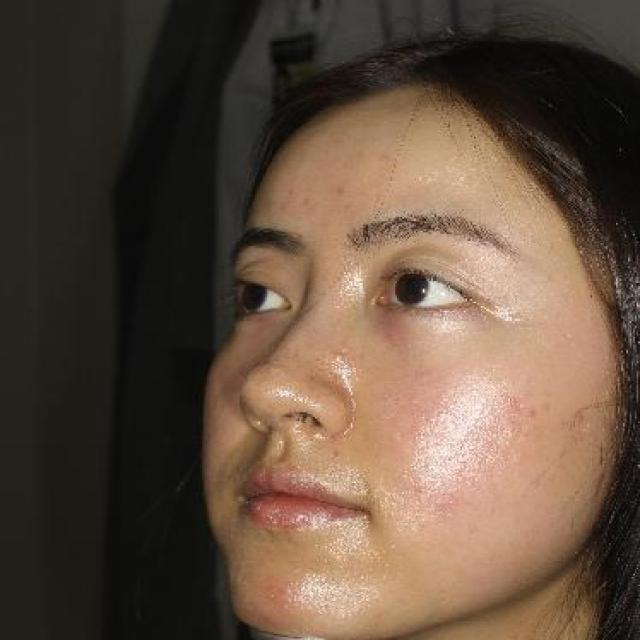dark spot: (426, 495, 466, 523), (522, 400, 548, 422), (500, 389, 527, 409), (572, 408, 597, 428), (375, 151, 402, 169), (332, 182, 351, 198)
